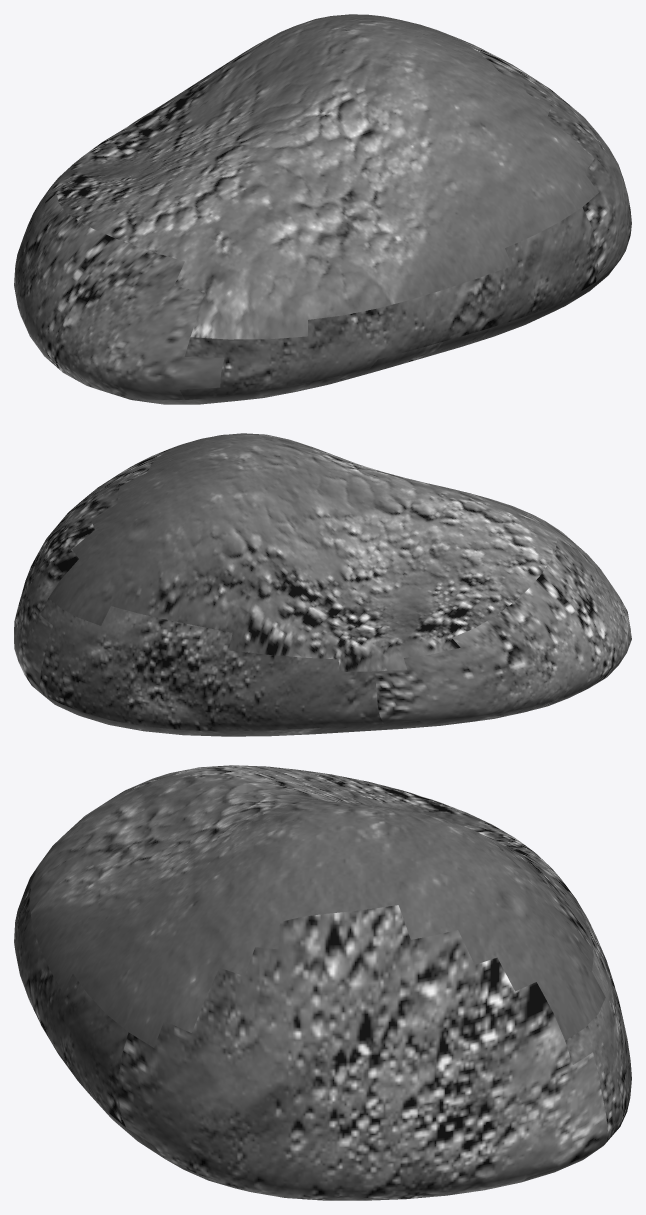
File: Rock5.obj
The picture shows the model from 3 angles, top to bottom: view 1: azimuth 30°, elevation 25°; view 2: azimuth 150°, elevation 25°; view 3: azimuth 270°, elevation 25°; orthographic projection. The views are drawn at different scales.
Parts seen in each view (by area): view 1: Rocks10; view 2: Rocks10; view 3: Rocks10.
Part boxes in pixels (left/top/right/bottom): Rocks10: left=14, top=14, right=631, bottom=404; Rocks10: left=14, top=433, right=631, bottom=736; Rocks10: left=14, top=765, right=631, bottom=1200.
Size of the model in its own units: 1.24 by 0.5418 by 0.9769.
1 material, 1 textured.
